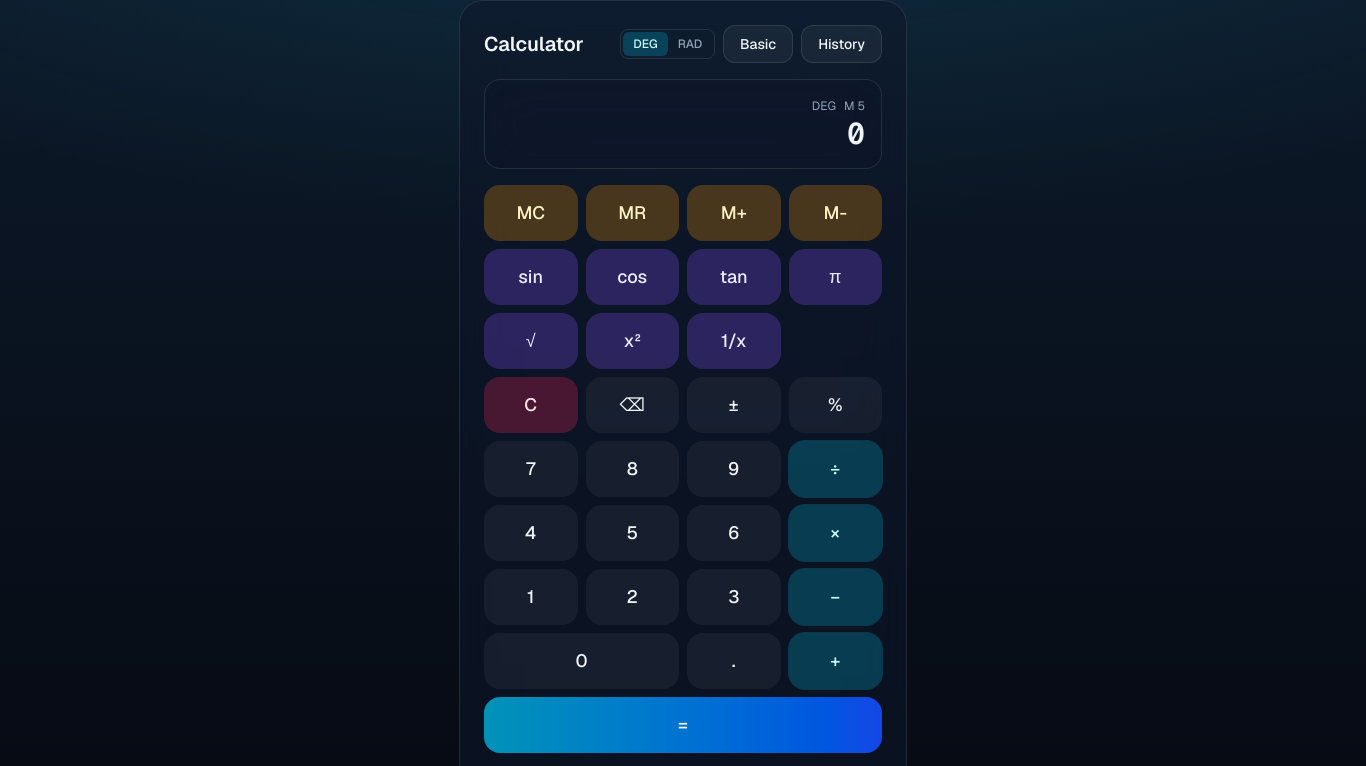
Test: Calculator › shows scientific tokens on display when clicked
The image size is (1366, 766).
Click the button "sin". click: (531, 277)
box: [484,249,578,305]
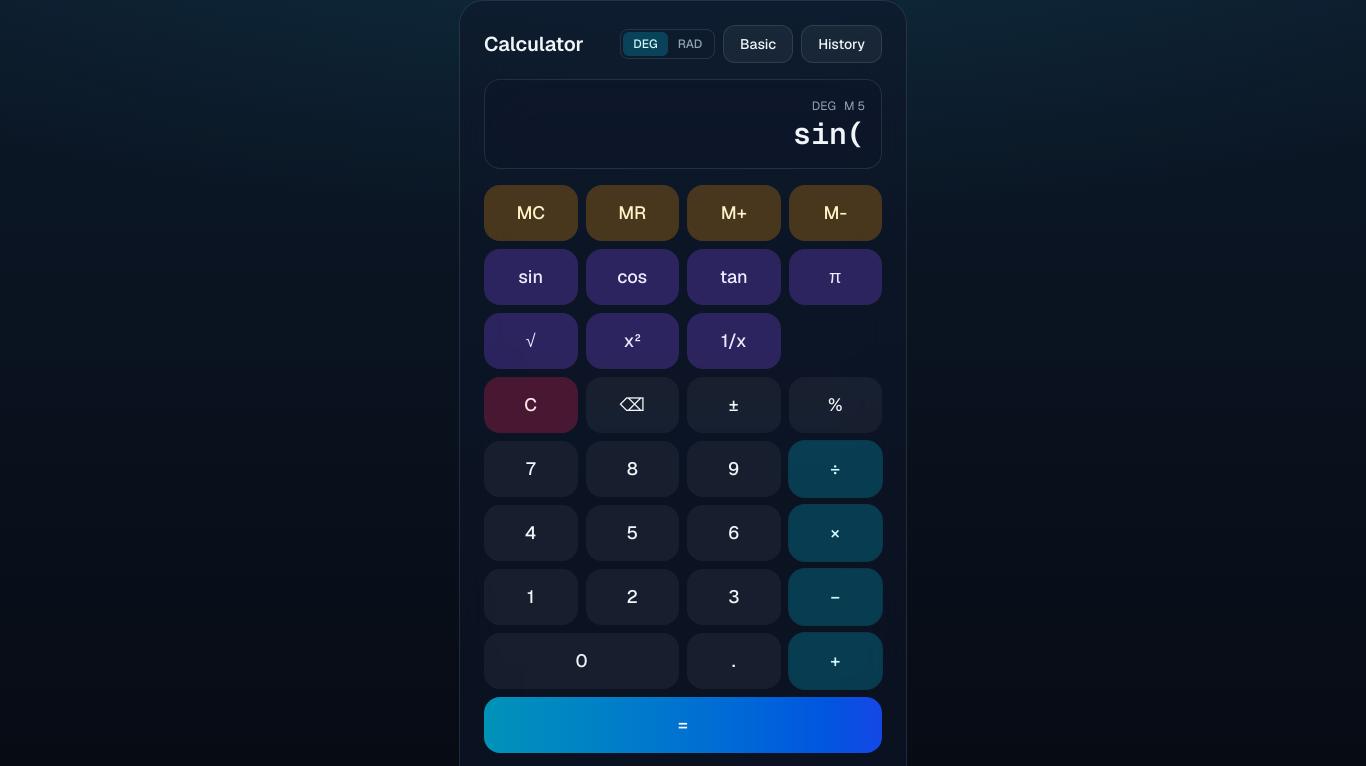
Check: the text "sin(" is shown, box [793,114,865,153]
Click the button "π". click: (835, 277)
box: [788,249,882,305]
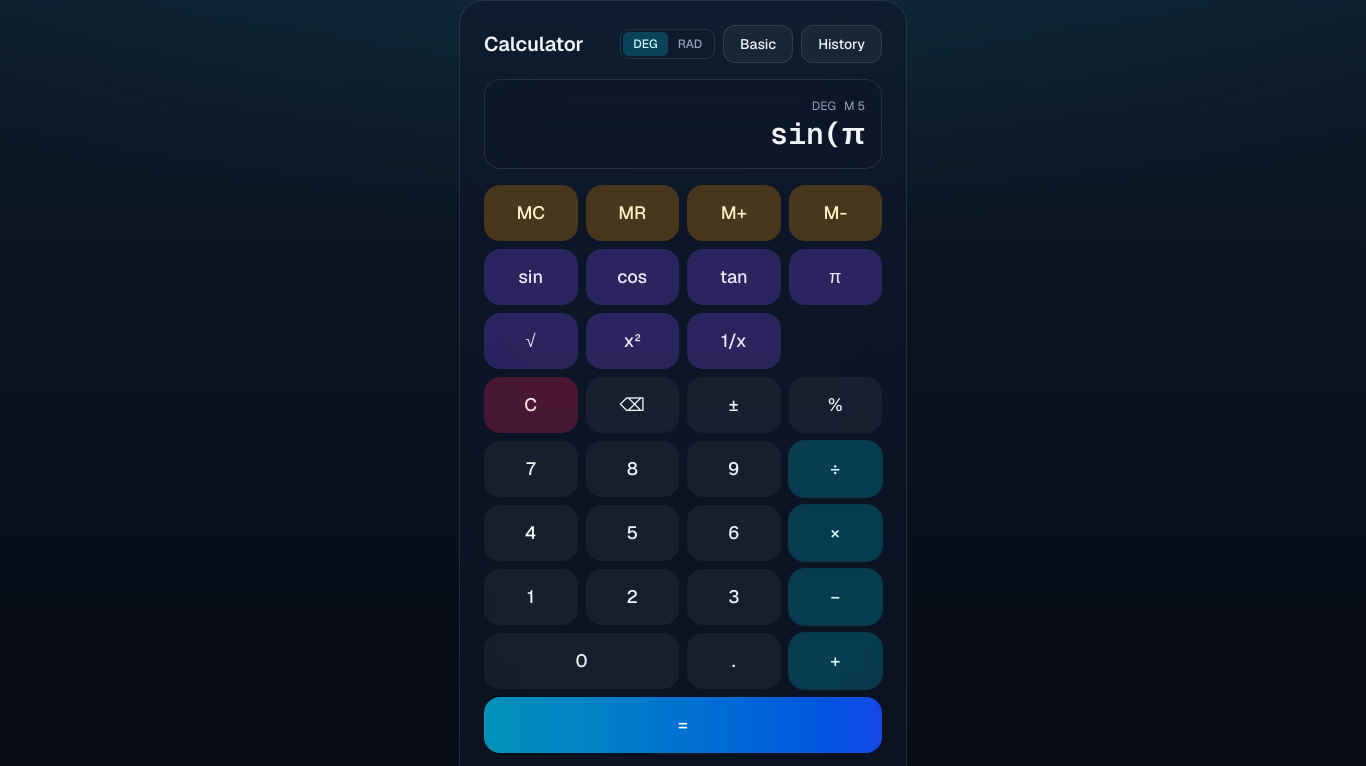
Check: the text "sin(π" is shown, box [770,114,865,153]
